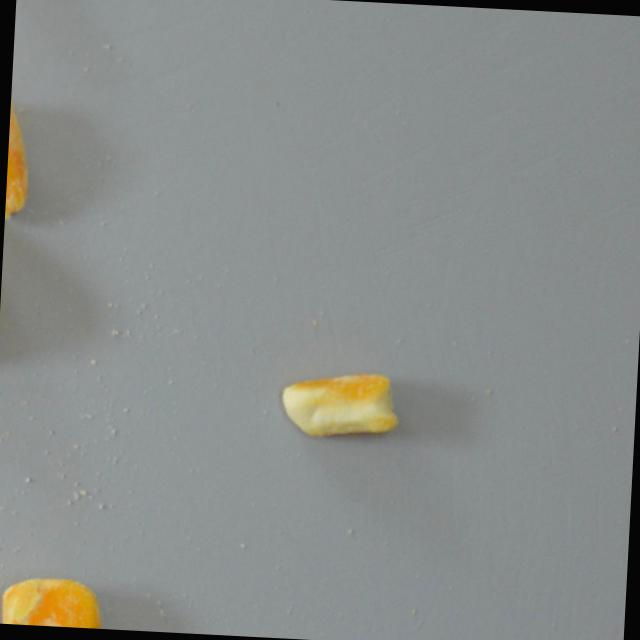dañado: (271, 352, 407, 447), (0, 573, 104, 629), (4, 90, 39, 228)
